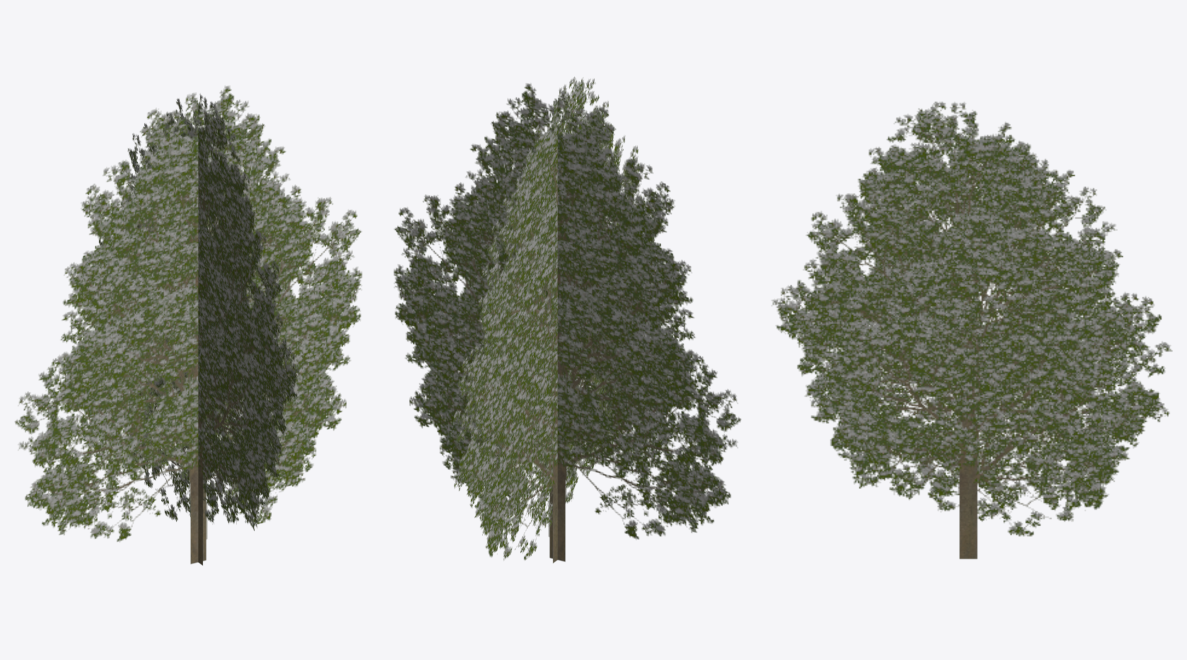
File: MagnoliaGrandiflora.glb
3 renders of one model, left to right at view 1: azimuth 30°, elevation 25°; view 2: azimuth 150°, elevation 25°; view 3: azimuth 270°, elevation 25°, orthographic. The views are drawn at different scales.
Visible parts, largest first — view 1: mesh__mat_billboard_7; view 2: mesh__mat_billboard_7; view 3: mesh__mat_billboard_7.
Boxes of the visible parts, <box> form: mesh__mat_billboard_7: <box>15,86,362,565</box>; mesh__mat_billboard_7: <box>393,76,740,563</box>; mesh__mat_billboard_7: <box>772,101,1172,559</box>.
Size of the model in its own units: 15.29 by 20.07 by 15.72.
Materials: 1 (1 with a texture image).
